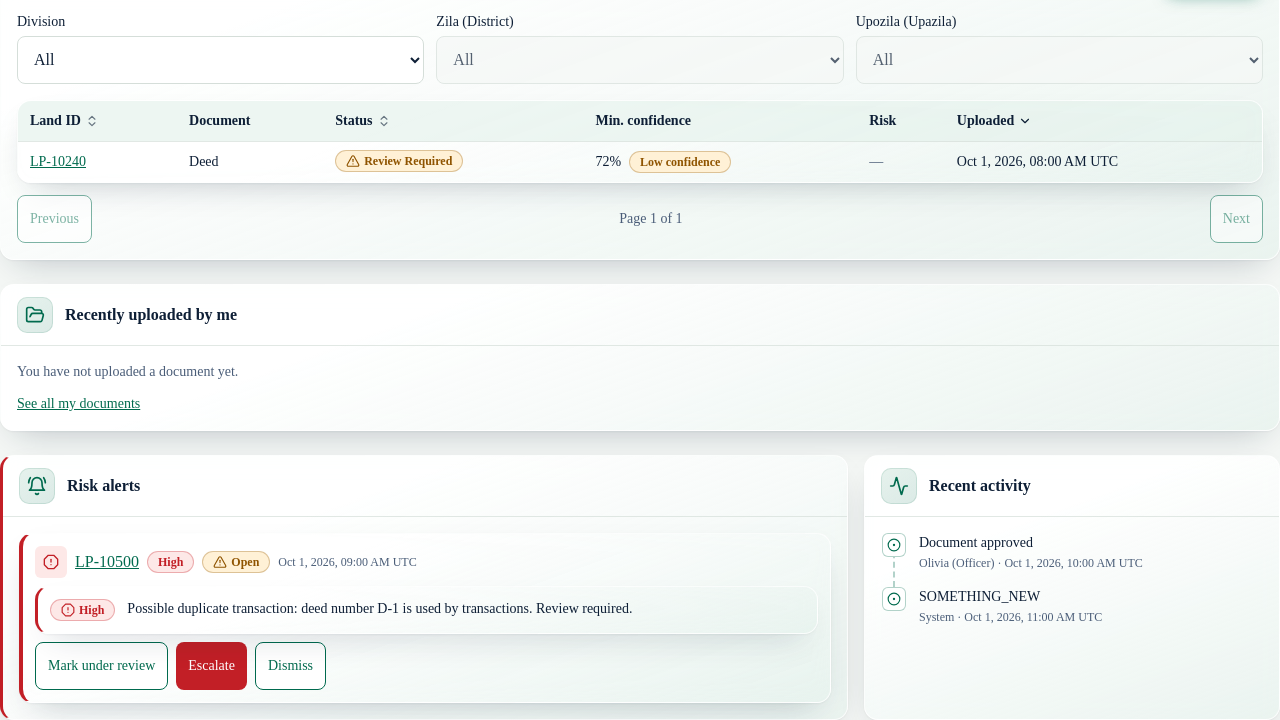
Test: dashboard B › alert update error and 403 are shown
The width and height of the screenshot is (1280, 720).
(page scrolled)
Click the button "Escalate".
click(212, 666)  # box [176, 642, 247, 690]
(page scrolled)
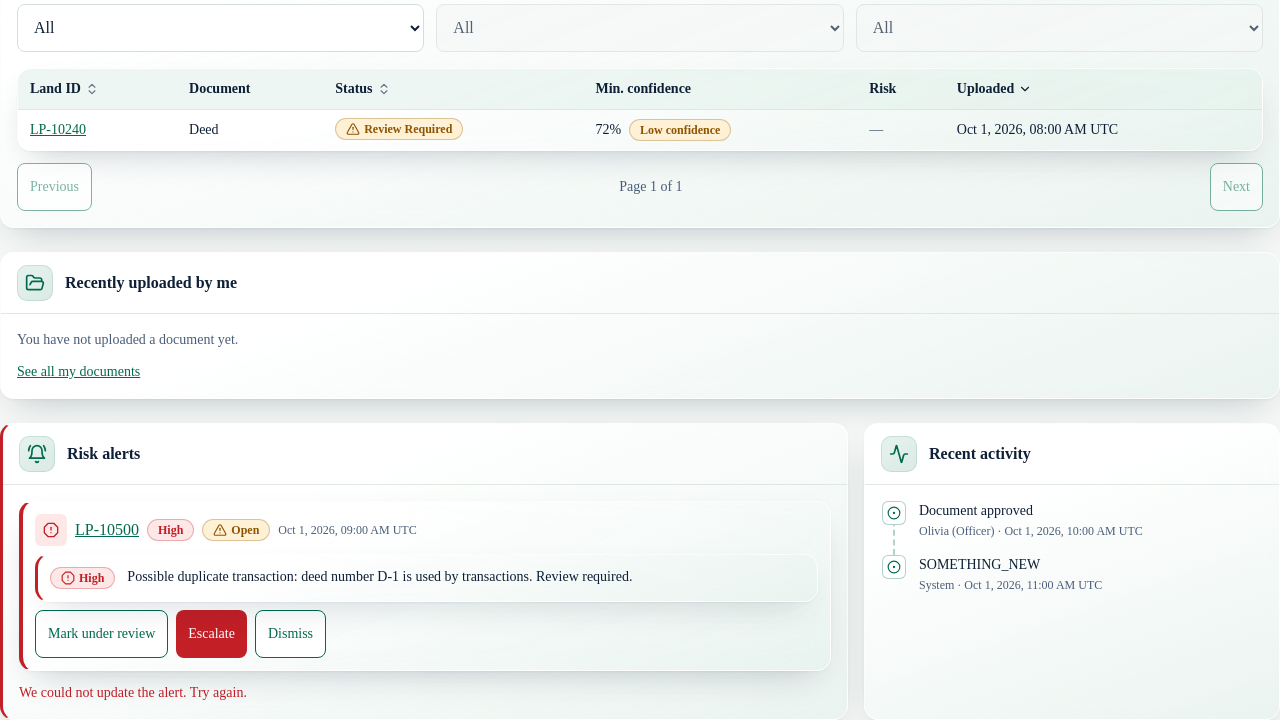
Result: the text "We could not update the alert. Try again." is shown at [19, 685, 247, 700]
